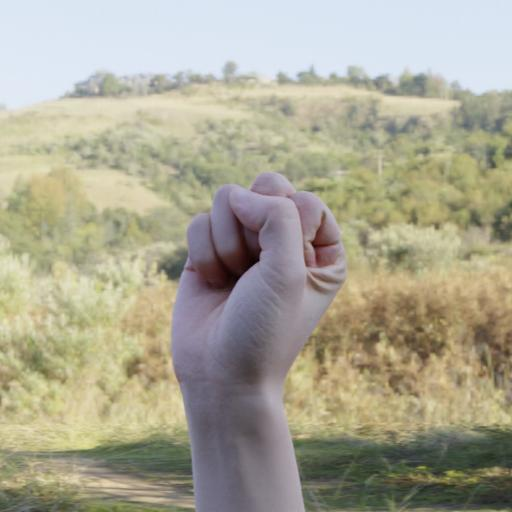S: (154, 162, 340, 405)
